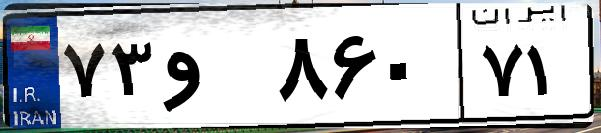0: (385, 28, 445, 110)
1: (525, 38, 570, 115)
3: (110, 28, 158, 98)
6: (330, 28, 385, 110)
7: (57, 26, 110, 100), (475, 38, 525, 113)
8: (270, 28, 330, 110)
و: (158, 20, 270, 120)
